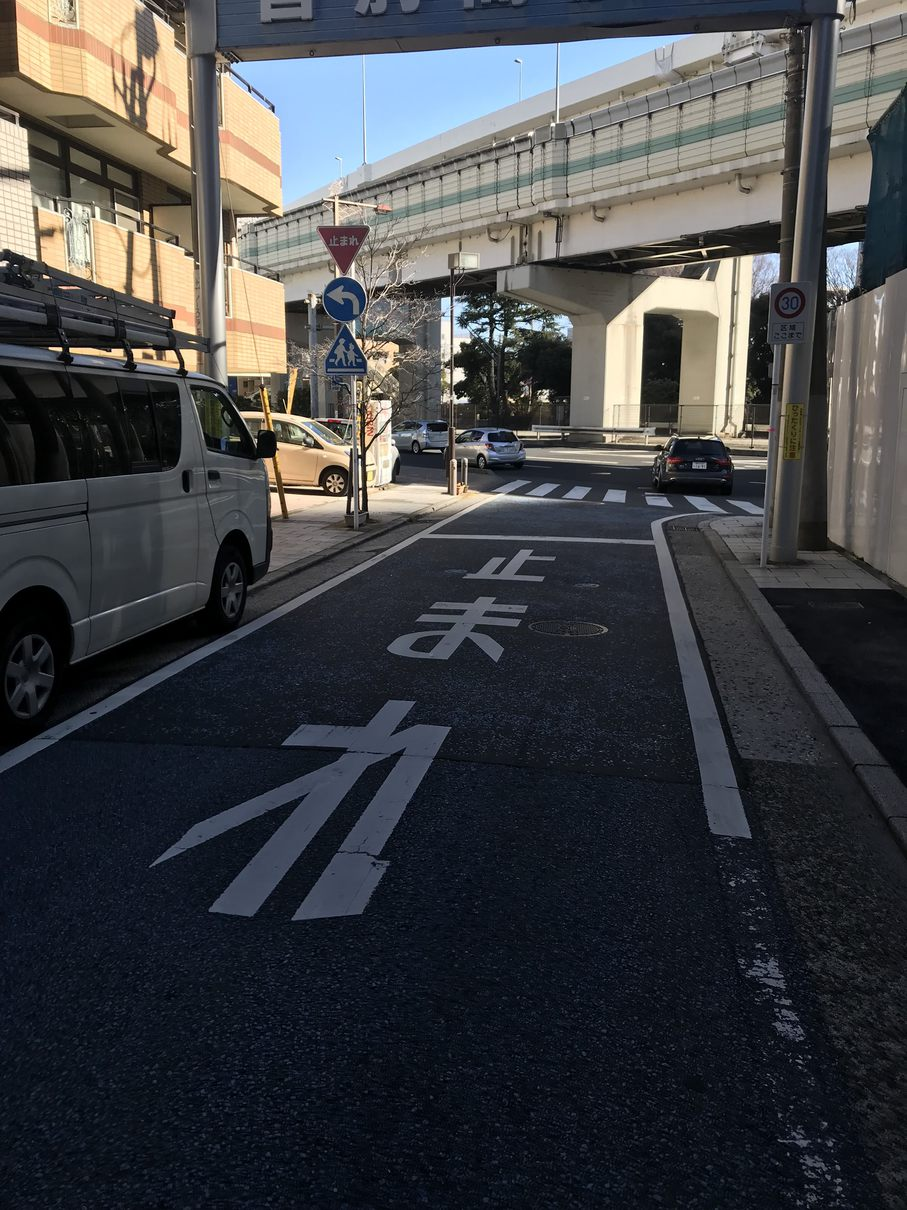stop_sign: (313, 222, 371, 275)
